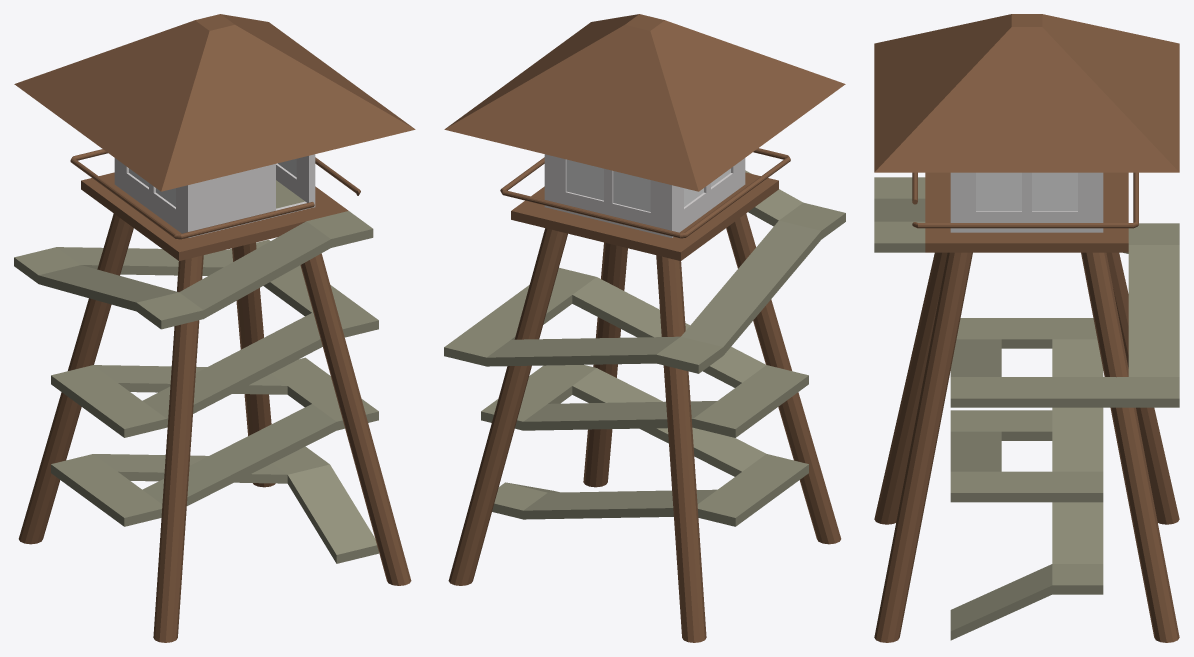
File: mod_building_tower.fbx
3 renders of one model, left to right at view 1: azimuth 30°, elevation 25°; view 2: azimuth 150°, elevation 25°; view 3: azimuth 270°, elevation 25°, orthographic. The views are drawn at different scales.
Visible parts, largest first — view 1: mesh_tower_platform_stairs, mesh_tower_roof, mesh_tower_platform, mesh_tower_cabin, mesh_tower_railing; view 2: mesh_tower_platform_stairs, mesh_tower_roof, mesh_tower_platform, mesh_tower_cabin, mesh_tower_glass, mesh_tower_railing; view 3: mesh_tower_platform_stairs, mesh_tower_roof, mesh_tower_platform, mesh_tower_cabin, mesh_tower_glass, mesh_tower_railing.
Part boxes in pixels (left/top/right/bottom): mesh_tower_platform_stairs: left=14, top=211, right=378, bottom=563; mesh_tower_roof: left=14, top=14, right=415, bottom=191; mesh_tower_platform: left=18, top=172, right=411, bottom=642; mesh_tower_cabin: left=114, top=154, right=315, bottom=237; mesh_tower_railing: left=70, top=149, right=360, bottom=239; mesh_tower_platform_stairs: left=444, top=170, right=845, bottom=526; mesh_tower_roof: left=444, top=14, right=845, bottom=191; mesh_tower_platform: left=448, top=172, right=841, bottom=642; mesh_tower_cabin: left=544, top=154, right=745, bottom=237; mesh_tower_glass: left=566, top=159, right=730, bottom=211; mesh_tower_railing: left=500, top=148, right=790, bottom=238; mesh_tower_platform_stairs: left=874, top=177, right=1179, bottom=640; mesh_tower_roof: left=874, top=14, right=1179, bottom=172; mesh_tower_platform: left=874, top=172, right=1179, bottom=642; mesh_tower_cabin: left=950, top=172, right=1103, bottom=232; mesh_tower_glass: left=976, top=172, right=1077, bottom=210; mesh_tower_railing: left=912, top=172, right=1138, bottom=228.
Bounding box in the file's own units: 1200 × 2420 × 1200.
